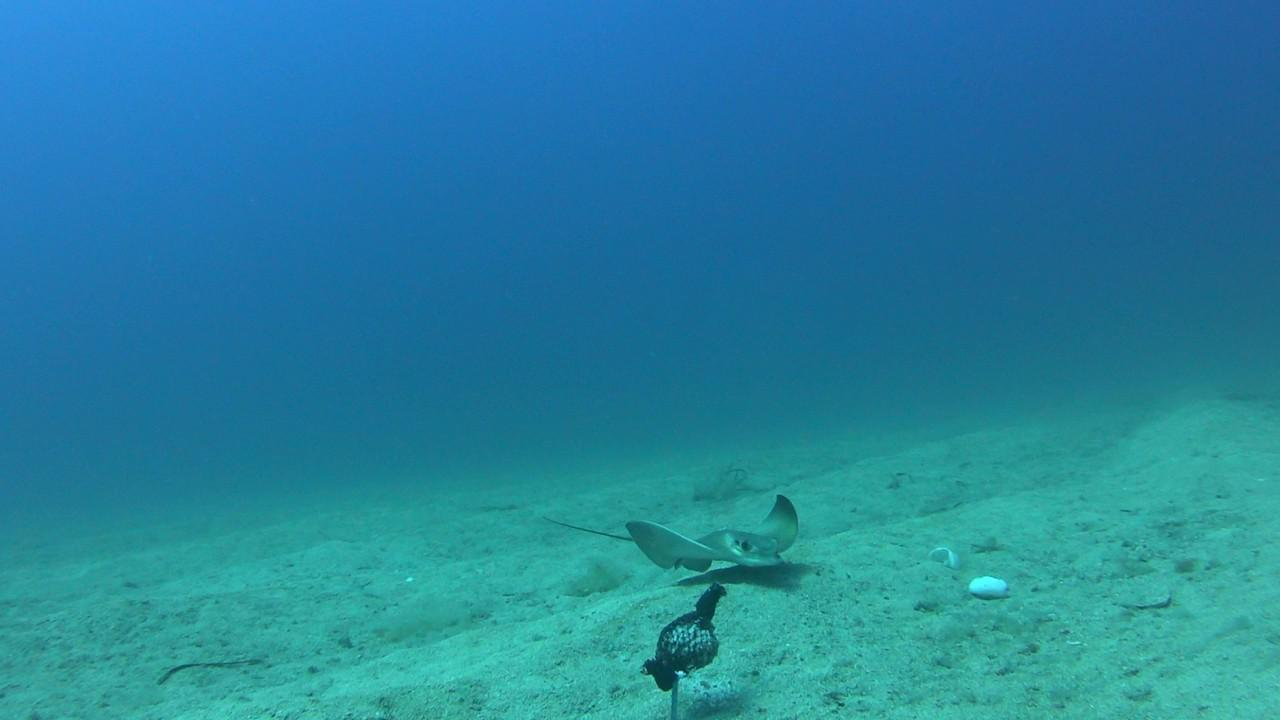myliobatis: (539, 490, 801, 576)
